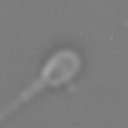abnormal: (1, 80, 42, 126)
